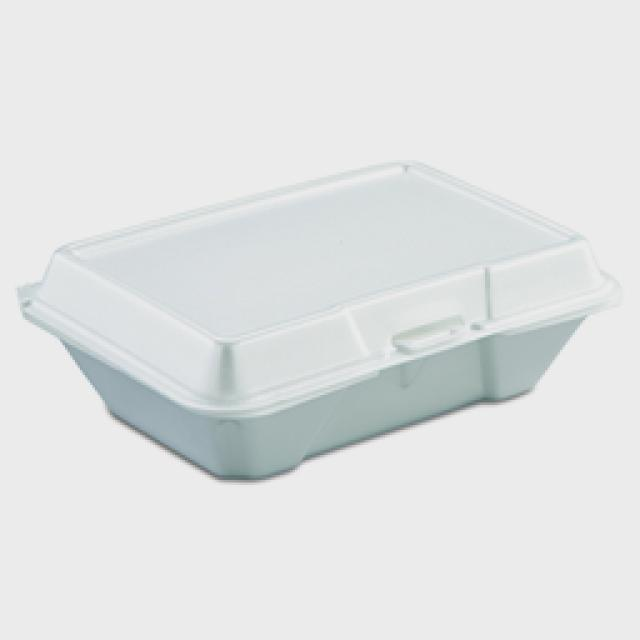inorganic: (18, 162, 621, 478)
